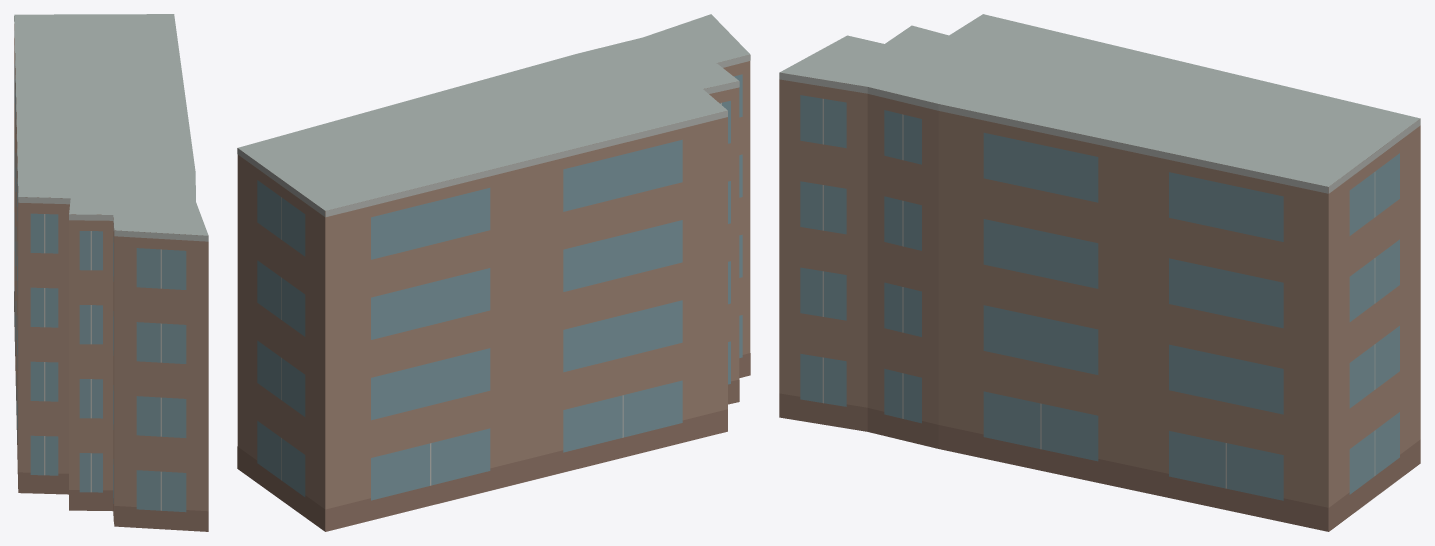
The model's file is survey-upis-32649988.glb.
The picture shows the model from 3 angles, left to right: view 1: azimuth 30°, elevation 25°; view 2: azimuth 150°, elevation 25°; view 3: azimuth 270°, elevation 25°; orthographic projection. The views are drawn at different scales.
Visible parts, largest first — view 1: survey-upis-32649988.tmp; view 2: survey-upis-32649988.tmp; view 3: survey-upis-32649988.tmp.
Boxes of the visible parts, left/top/right/bottom form: survey-upis-32649988.tmp: left=14, top=14, right=208, bottom=531; survey-upis-32649988.tmp: left=237, top=14, right=750, bottom=531; survey-upis-32649988.tmp: left=779, top=14, right=1420, bottom=531.
Bounding box in the file's own units: 13.12 × 12.2 × 20.56.
